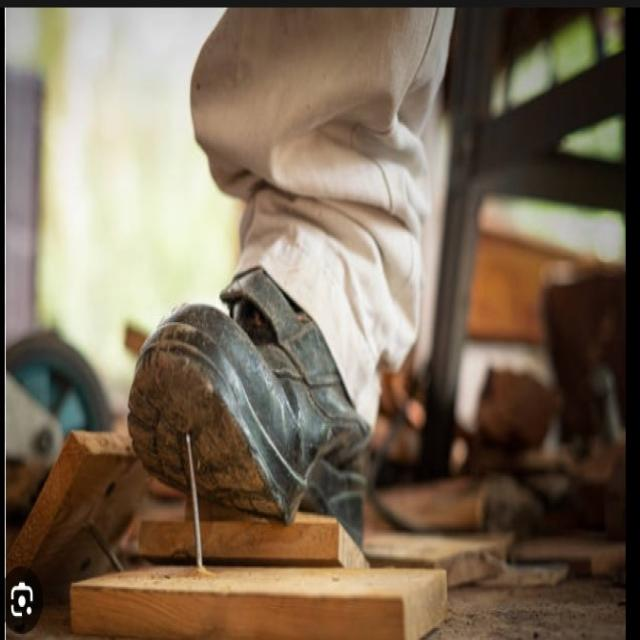Glasses: (123, 198, 422, 558)
